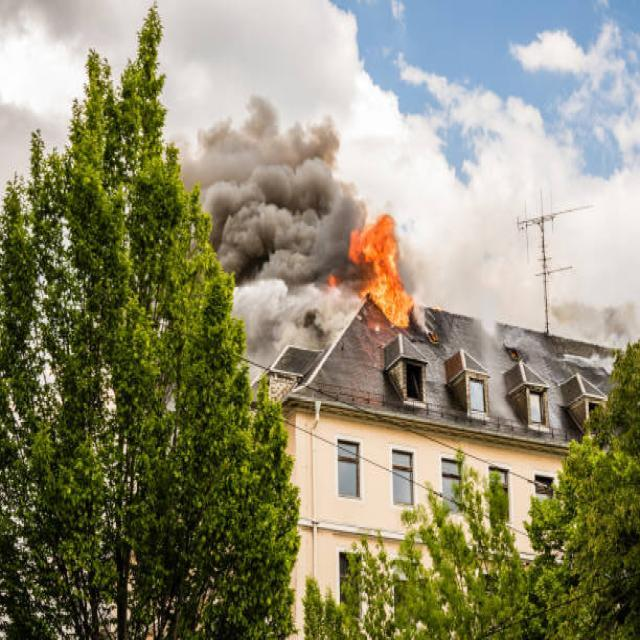Fire: (354, 198, 430, 338)
Smoke: (209, 97, 398, 291), (230, 260, 344, 366), (575, 274, 640, 366)
